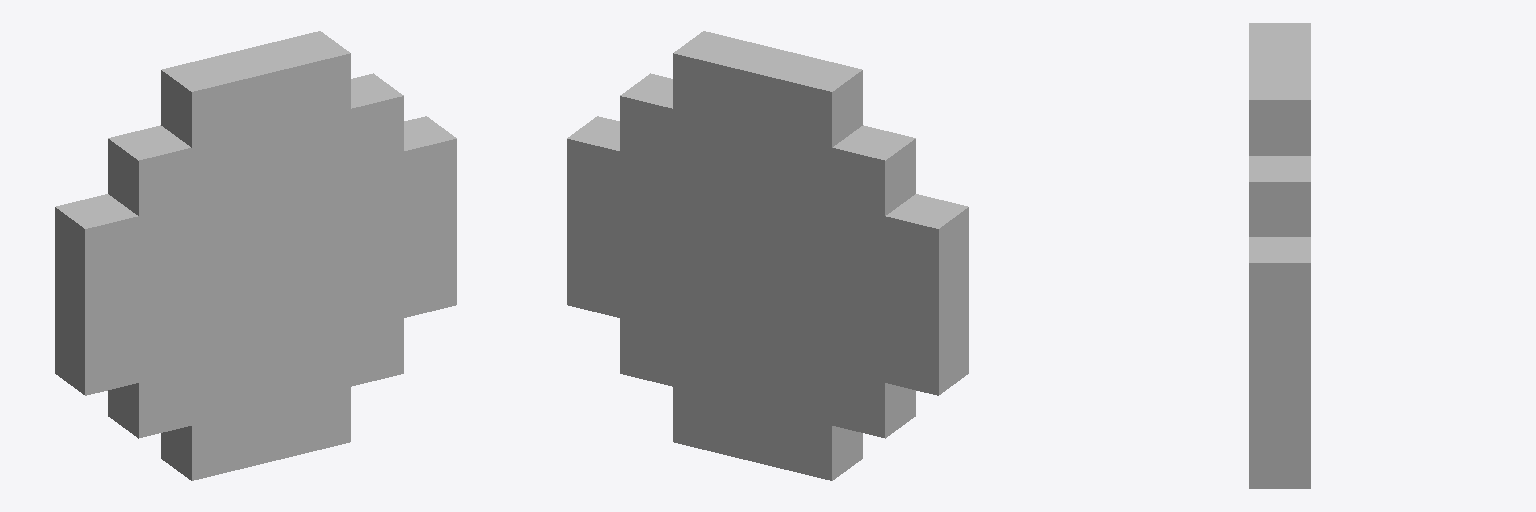
The model's file is Coin.obj.
3 renders of one model, left to right at view 1: azimuth 30°, elevation 25°; view 2: azimuth 150°, elevation 25°; view 3: azimuth 270°, elevation 25°, orthographic.
Visible parts, largest first — view 1: object 1; view 2: object 1; view 3: object 1.
Part boxes in pixels (bbox=[...]): object 1: bbox=[55, 31, 456, 480]; object 1: bbox=[567, 31, 968, 480]; object 1: bbox=[1249, 23, 1310, 488].
Size of the model in its own units: 0.7 by 0.7 by 0.1.